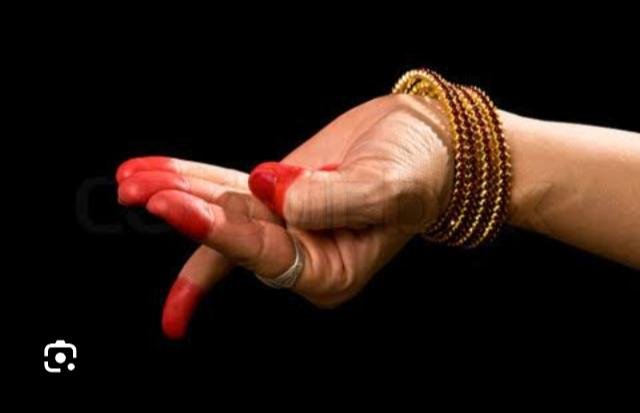chatur: (78, 60, 540, 342)
